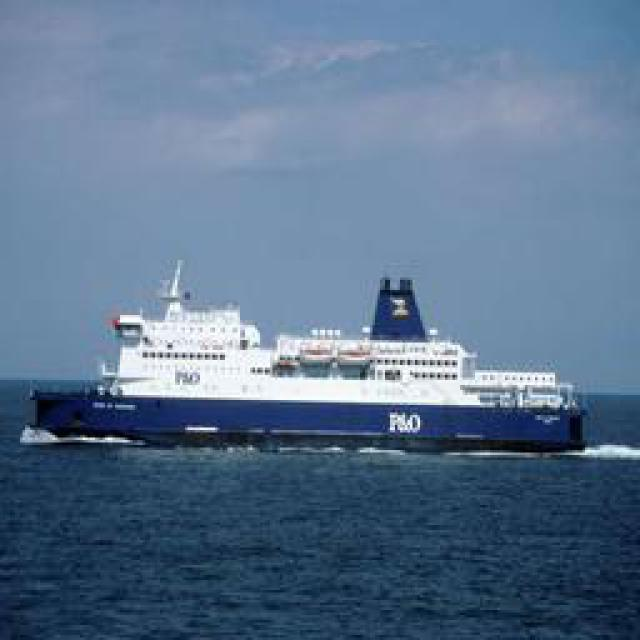Ship: (21, 264, 606, 454)
